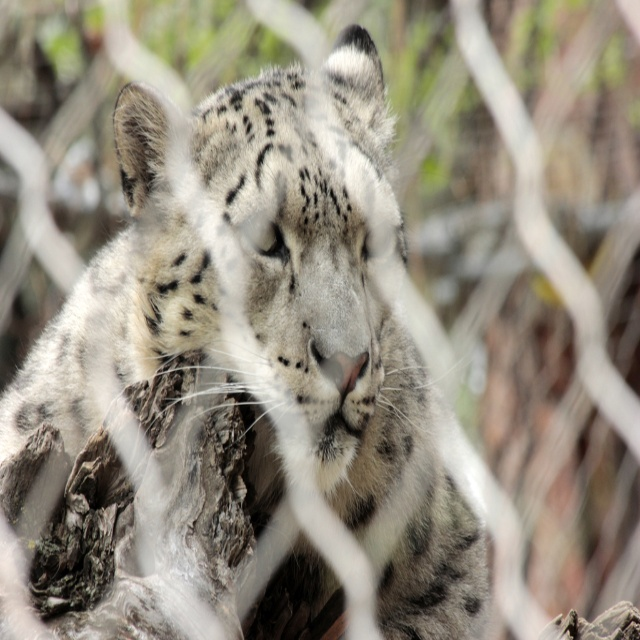Leopard: (1, 22, 495, 639)
